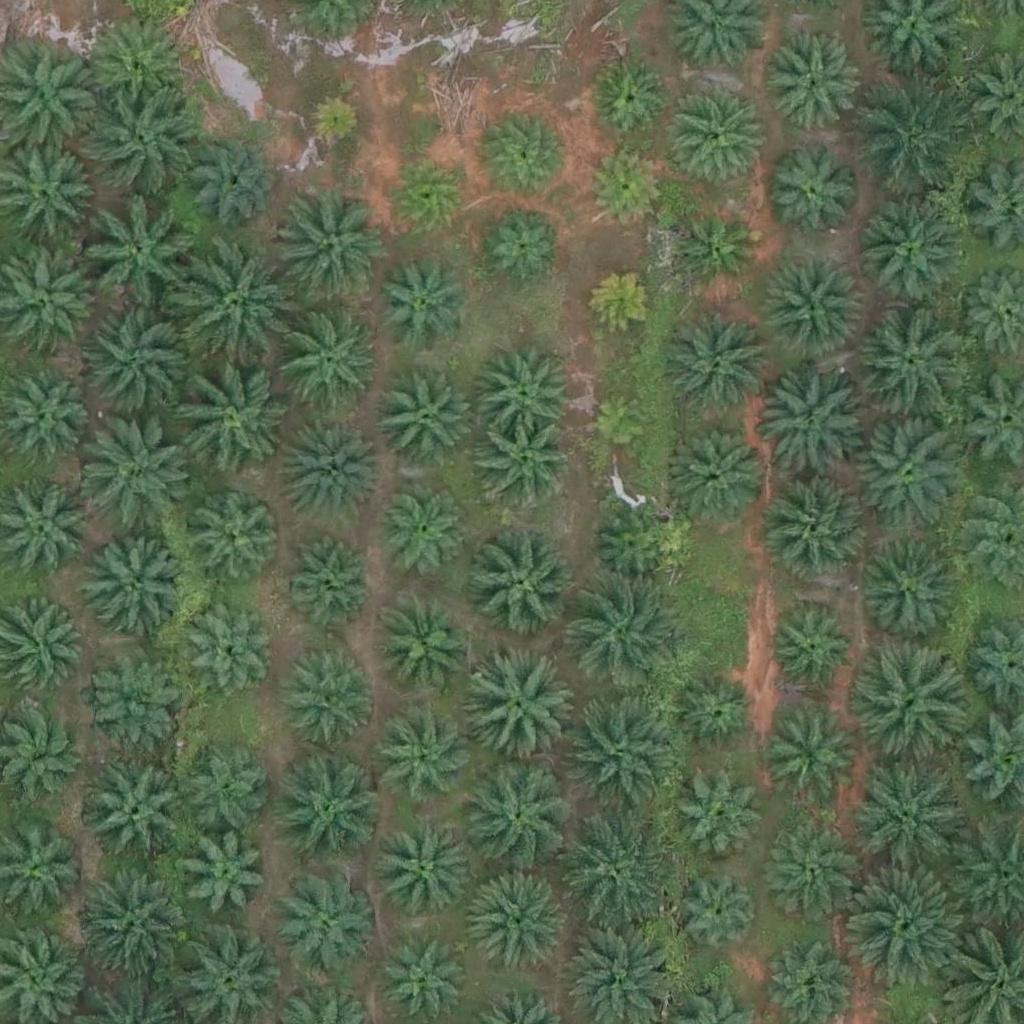Kelapa_Sawit: (854, 420, 967, 534), (661, 304, 774, 418), (568, 697, 681, 811), (465, 525, 578, 639), (857, 302, 970, 415), (854, 639, 967, 752), (759, 370, 872, 483), (458, 653, 571, 766), (80, 305, 193, 418), (74, 874, 187, 987), (856, 89, 969, 202), (177, 252, 290, 365), (83, 201, 196, 314), (79, 422, 191, 536), (853, 760, 965, 873), (850, 871, 962, 984), (571, 576, 683, 689), (559, 816, 671, 929), (461, 760, 573, 873), (173, 361, 285, 474), (274, 188, 386, 301), (89, 84, 201, 197), (860, 540, 960, 641), (760, 257, 860, 358), (773, 480, 873, 581), (674, 421, 774, 522), (474, 341, 574, 442), (368, 254, 468, 355), (375, 370, 475, 471), (375, 594, 475, 695), (377, 711, 477, 812), (373, 822, 473, 923), (281, 310, 381, 411), (278, 643, 378, 744), (277, 762, 377, 863), (274, 871, 374, 972), (186, 483, 286, 584), (86, 538, 186, 639), (90, 767, 190, 868), (766, 25, 866, 126), (759, 148, 859, 249), (663, 85, 763, 186), (88, 14, 188, 115), (471, 869, 571, 969), (277, 425, 377, 525), (82, 650, 182, 750), (864, 199, 964, 299), (378, 492, 466, 581), (768, 826, 856, 914), (677, 777, 765, 865), (673, 871, 761, 959), (591, 506, 679, 594), (483, 421, 571, 509), (283, 536, 371, 624), (482, 109, 570, 197), (482, 201, 570, 289), (580, 141, 668, 229), (588, 52, 676, 140), (195, 134, 283, 222), (769, 607, 856, 696), (773, 722, 860, 810), (672, 674, 759, 762), (184, 604, 271, 692), (184, 745, 271, 833), (181, 833, 268, 921), (3, 375, 90, 463), (383, 151, 470, 239), (673, 201, 760, 289), (585, 263, 660, 339), (300, 92, 363, 155), (590, 392, 652, 455)
